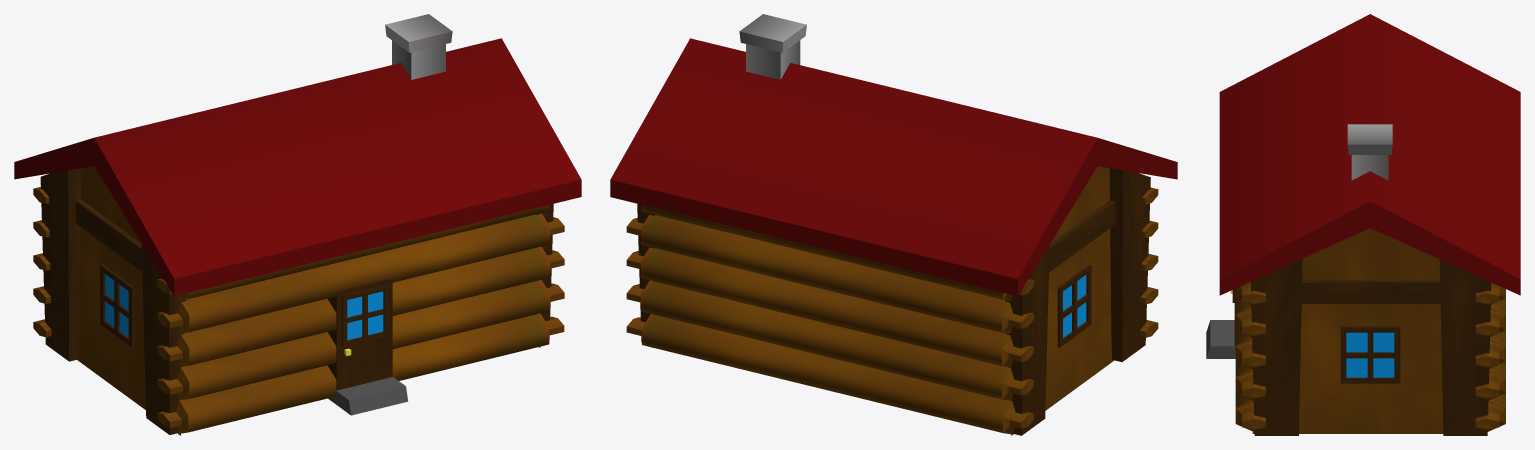
The model's file is logcabin_Model.FBX.
3 renders of one model, left to right at view 1: azimuth 30°, elevation 25°; view 2: azimuth 150°, elevation 25°; view 3: azimuth 270°, elevation 25°, orthographic. The views are drawn at different scales.
Visible parts, largest first — view 1: Cylinder008; view 2: Cylinder008; view 3: Cylinder008.
Boxes of the visible parts, x1,y1,x2,y2 form: Cylinder008: (14,14,581,435); Cylinder008: (610,14,1177,435); Cylinder008: (1206,14,1520,435).
Size of the model in its own units: 56.67 by 38.43 by 40.22.
Materials: 1 (1 with a texture image).
